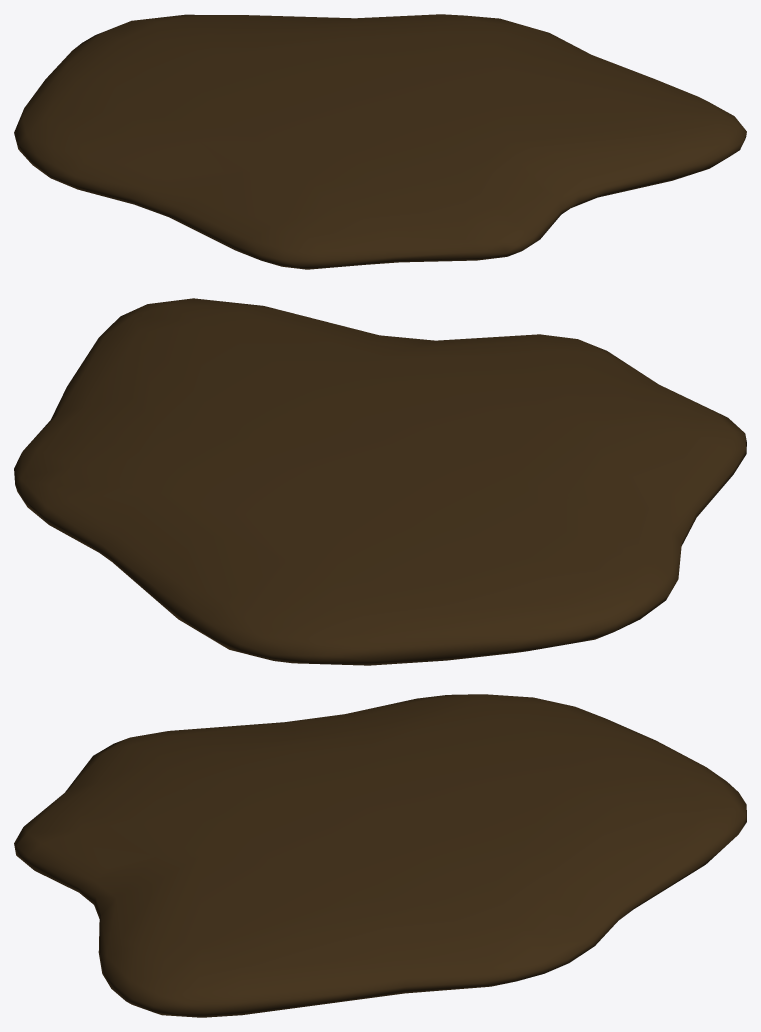
File: Puddle.fbx
3 views of the same model, one above another, from view 1: azimuth 30°, elevation 25°; view 2: azimuth 150°, elevation 25°; view 3: azimuth 270°, elevation 25° (orthographic). The views are drawn at different scales.
Visible parts, largest first — view 1: Puddle; view 2: Puddle; view 3: Puddle.
Part boxes in pixels (x1=…): Puddle: x1=14, y1=14, x2=746, y2=269; Puddle: x1=14, y1=298, x2=746, y2=665; Puddle: x1=14, y1=694, x2=746, y2=1017.
Size of the model in its own units: 324 by 38.37 by 322.
